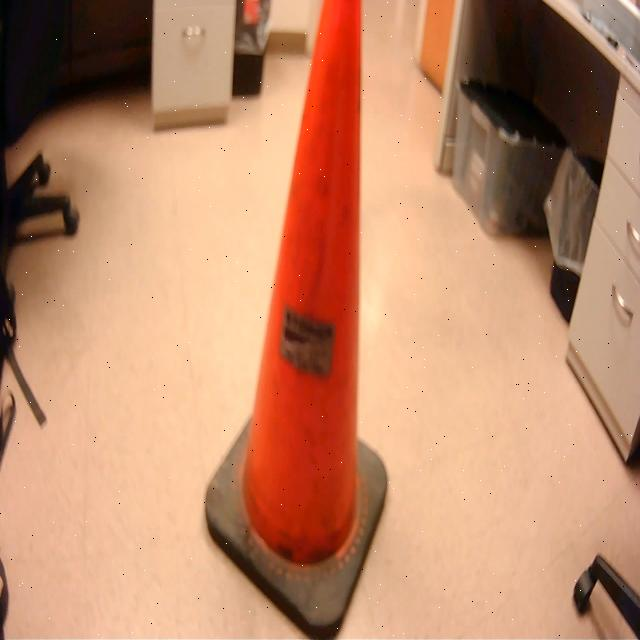traffic cone: (202, 1, 398, 640)
